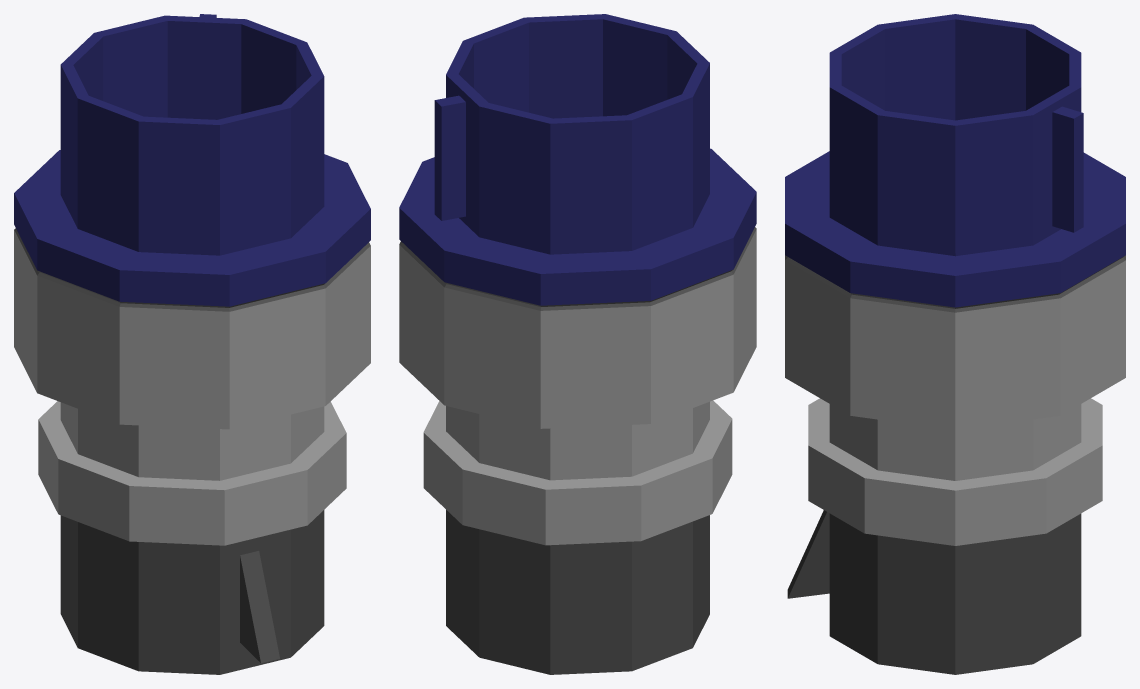
The model's file is SM_plugBlue.fbx.
3 views of the same model, side by side, from view 1: azimuth 30°, elevation 25°; view 2: azimuth 150°, elevation 25°; view 3: azimuth 270°, elevation 25° (orthographic).
Parts seen in each view (by area): view 1: SM_plugBlue; view 2: SM_plugBlue; view 3: SM_plugBlue.
Part boxes in pixels (x1=…): SM_plugBlue: x1=14, y1=14, x2=370, y2=674; SM_plugBlue: x1=399, y1=14, x2=756, y2=674; SM_plugBlue: x1=785, y1=14, x2=1125, y2=674.
Bounding box in the file's own units: 0.2083 × 0.3524 × 0.1981.
